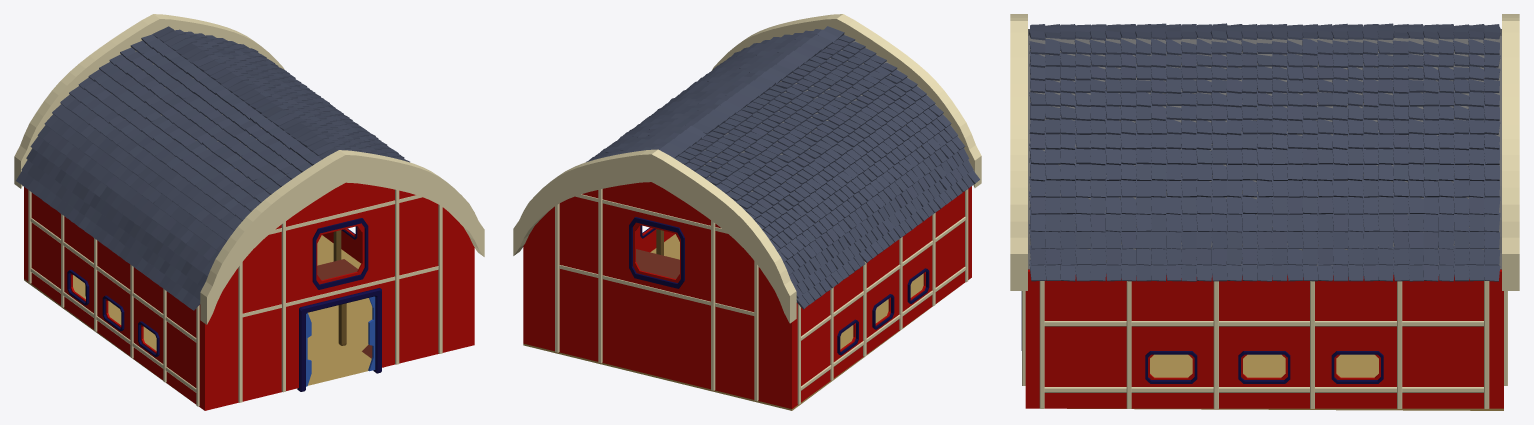
The model's file is Barn.fbx.
3 renders of one model, left to right at view 1: azimuth 30°, elevation 25°; view 2: azimuth 150°, elevation 25°; view 3: azimuth 270°, elevation 25°, orthographic. The views are drawn at different scales.
Parts seen in each view (by area): view 1: Walls, Roof edge, Front bars, Bars, Door frame, Window model top, Window model, Doors, Ramp; view 2: Walls, Roof edge, Front bars, Bars, Window model top, Window model, Ramp; view 3: Walls, Roof edge, Bars, Roof, Window model, Front bars.
Boxes of the visible parts, left/top/right/bottom form: Walls: left=24, top=182, right=474, bottom=410; Roof edge: left=14, top=14, right=484, bottom=324; Front bars: left=238, top=189, right=442, bottom=402; Bars: left=28, top=190, right=199, bottom=406; Door frame: left=297, top=288, right=381, bottom=391; Window model top: left=312, top=218, right=368, bottom=289; Window model: left=67, top=226, right=357, bottom=356; Doors: left=306, top=296, right=375, bottom=386; Ramp: left=317, top=259, right=383, bottom=367; Walls: left=523, top=182, right=971, bottom=410; Roof edge: left=513, top=14, right=981, bottom=323; Front bars: left=555, top=189, right=758, bottom=401; Bars: left=797, top=189, right=968, bottom=404; Window model top: left=629, top=217, right=684, bottom=288; Window model: left=640, top=225, right=929, bottom=355; Ramp: left=636, top=249, right=679, bottom=278; Walls: left=1025, top=269, right=1503, bottom=410; Roof edge: left=1010, top=14, right=1519, bottom=290; Bars: left=1039, top=280, right=1489, bottom=408; Roof: left=1028, top=29, right=1501, bottom=269; Window model: left=1145, top=351, right=1383, bottom=383; Front bars: left=1022, top=291, right=1507, bottom=385.
Bounding box in the file's own units: 2554 × 1932 × 2918.
